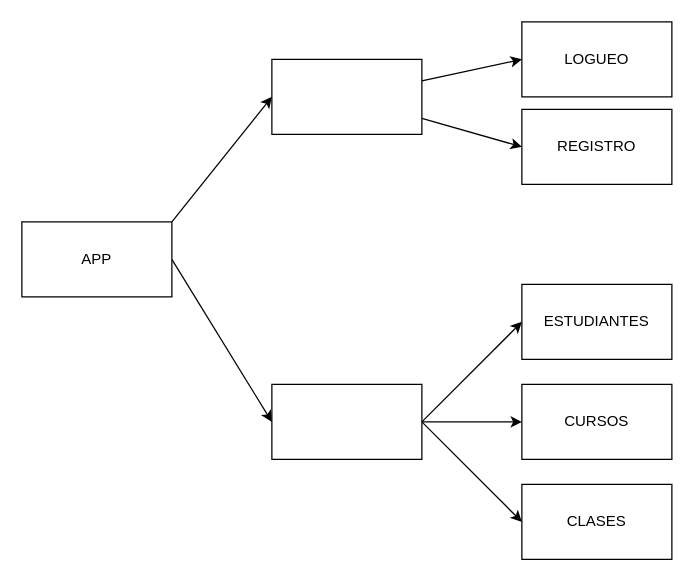
The diagram is 694 pixels wide and 581 high, and some of its shapes have lost their labels. Each missing label, with the centre of its shape:
"AUTENTIFICACION" belongs at point (346, 96).
"PANEL ADMINISTRATIVO" belongs at point (346, 421).
